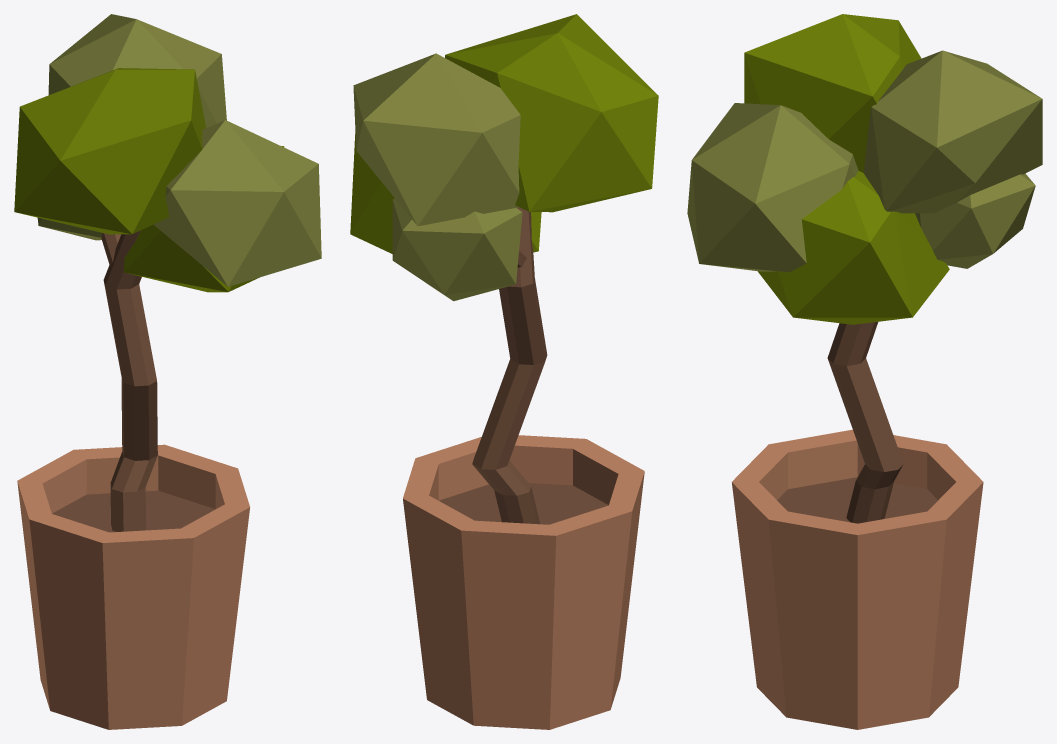
Rendered from tree_small.fbx.
3 renders of one model, left to right at view 1: azimuth 30°, elevation 25°; view 2: azimuth 150°, elevation 25°; view 3: azimuth 270°, elevation 25°, orthographic. The views are drawn at different scales.
Visible parts, largest first — view 1: Pot, Leaves, Leaves.004, Stem, Leaves.001, Leaves.003, Leaves.002; view 2: Pot, Leaves, Leaves.001, Stem, Leaves.002, Leaves.003; view 3: Pot, Leaves.001, Leaves.004, Leaves.003, Leaves, Stem, Leaves.002.
Boxes of the visible parts, box(x1,y1,x2,y2) form: Pot: box(17, 444, 250, 729); Leaves: box(14, 68, 205, 234); Leaves.004: box(153, 120, 321, 286); Stem: box(103, 230, 157, 531); Leaves.001: box(48, 14, 226, 127); Leaves.003: box(123, 146, 284, 292); Leaves.002: box(37, 217, 102, 240); Pot: box(403, 435, 644, 729); Leaves: box(445, 14, 658, 212); Leaves.001: box(353, 53, 520, 226); Stem: box(472, 207, 547, 524); Leaves.002: box(392, 198, 522, 301); Leaves.003: box(350, 132, 541, 253); Pot: box(731, 429, 983, 729); Leaves.001: box(863, 50, 1042, 213); Leaves.004: box(687, 103, 858, 272); Leaves.003: box(758, 171, 949, 324); Leaves: box(744, 14, 921, 172); Stem: box(827, 322, 903, 523); Leaves.002: box(915, 173, 1035, 268).
Size of the model in its own units: 36.21 by 78.77 by 38.39.
